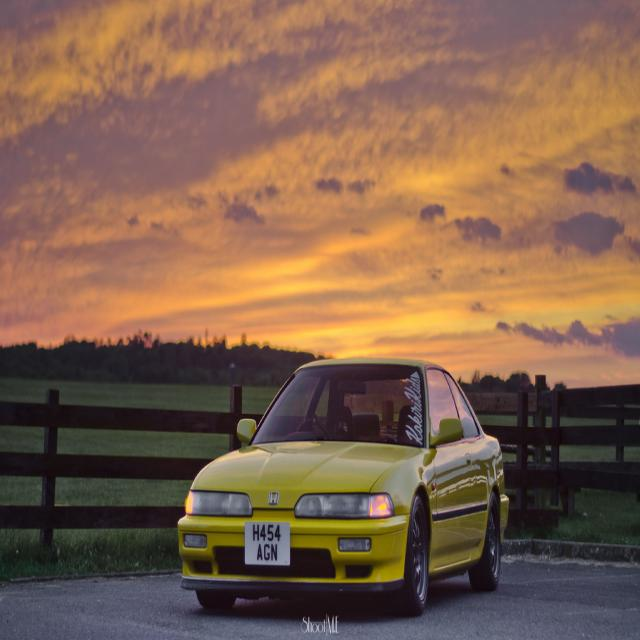car: (176, 356, 508, 614)
